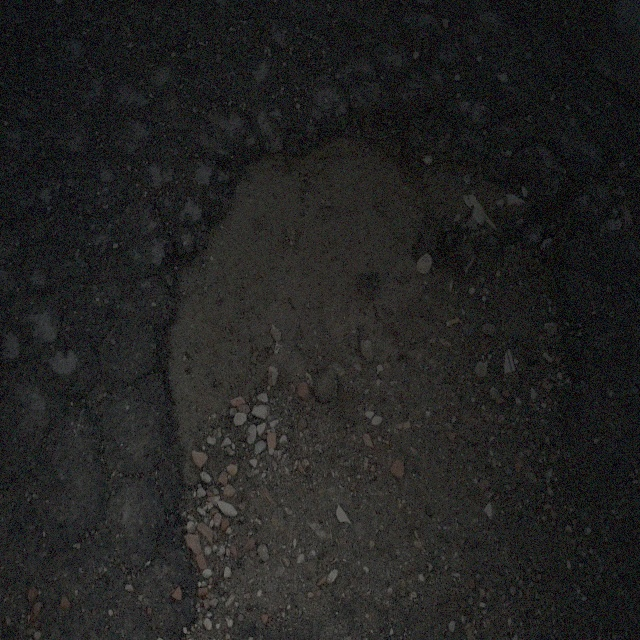pothole: (143, 97, 577, 558)
